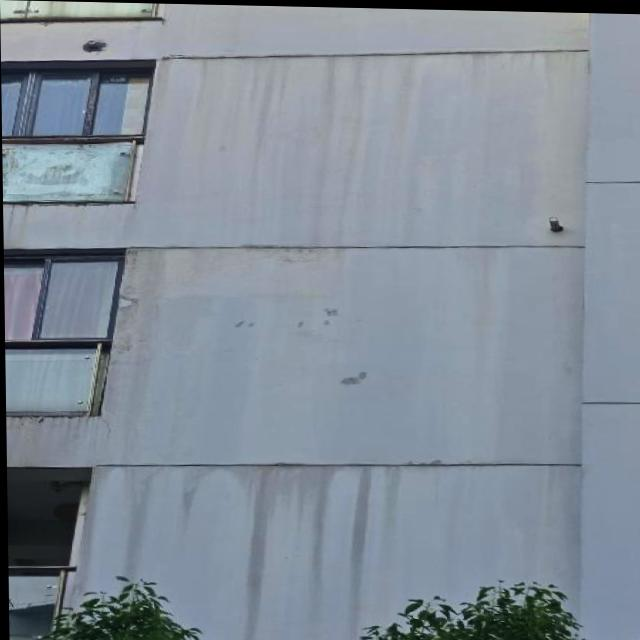damp: (140, 54, 567, 242), (75, 465, 450, 634)
spalling: (73, 37, 117, 57)
